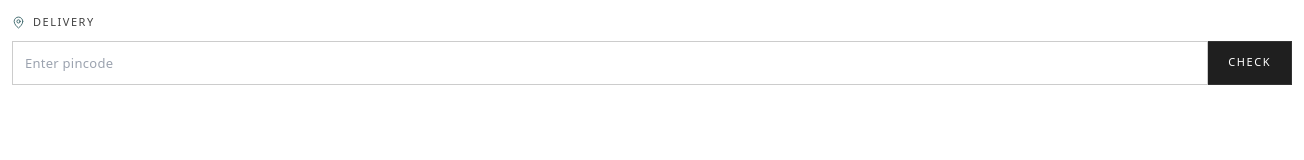
Test: PincodeChecker › gives a reserved piece the courier's days, not a date
The image size is (1304, 160).
Type "400001" into the field with placeholder "Enter pincode" at (610, 62), box [12,40,1208,84]
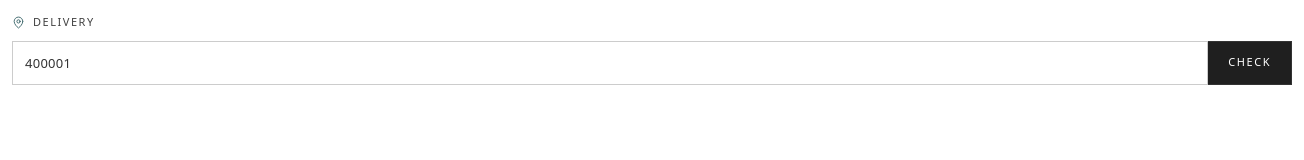
Click the button "Check" at (1250, 62), box [1208,40,1292,84]
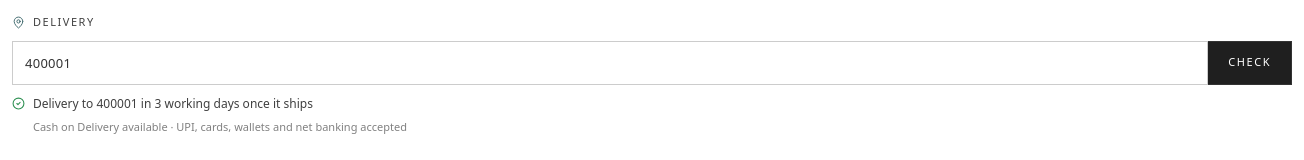
Result: the text "Delivery to 400001 in 3 working days once it ships" is shown at [33,94,313,112]
